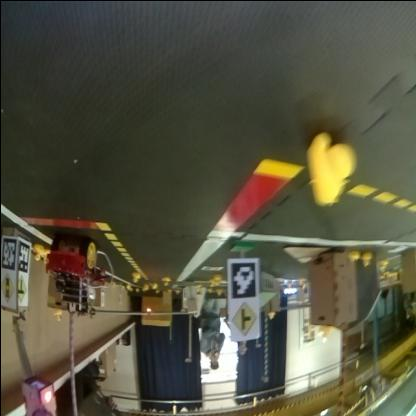Duckie: (306, 134, 354, 206), (31, 244, 41, 260), (348, 252, 359, 263), (362, 252, 370, 266), (42, 249, 50, 261), (378, 261, 386, 269), (131, 274, 137, 282), (150, 282, 156, 289), (214, 276, 219, 284), (161, 278, 167, 284)
Duckiebot: (44, 238, 111, 316)
Intersection sign: (232, 300, 256, 338), (16, 276, 26, 304)
QR code: (230, 260, 254, 299), (0, 238, 13, 270), (17, 241, 29, 273)
Signal sign: (0, 272, 13, 302)
